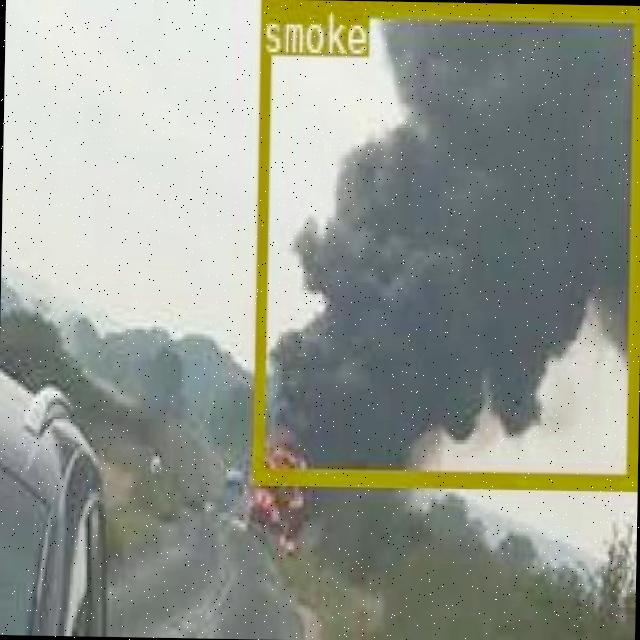smoke: (249, 0, 638, 483)
